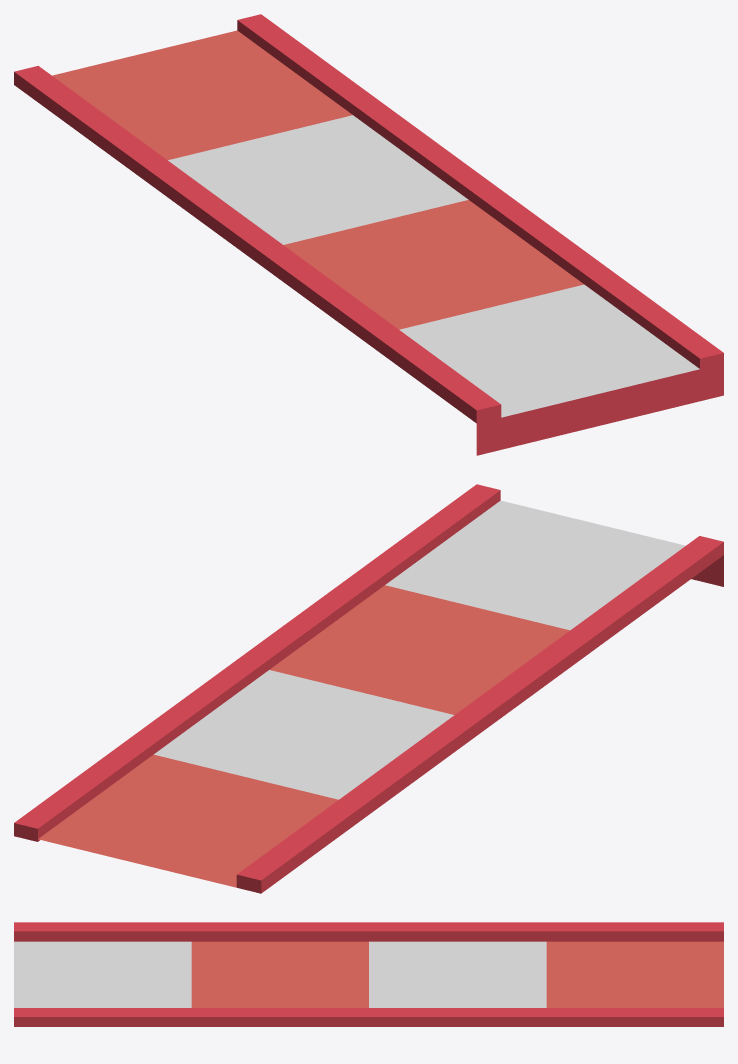
Rendered from Road.fbx.
The picture shows the model from 3 angles, top to bottom: view 1: azimuth 30°, elevation 25°; view 2: azimuth 150°, elevation 25°; view 3: azimuth 270°, elevation 25°; orthographic projection. The views are drawn at different scales.
Visible parts, largest first — view 1: Cube; view 2: Cube; view 3: Cube.
Part boxes in pixels (x1,y1,x2,y2): Cube: [14, 14, 723, 455]; Cube: [14, 484, 723, 893]; Cube: [14, 922, 723, 1026].
Size of the model in its own units: 249 by 43.58 by 806.
